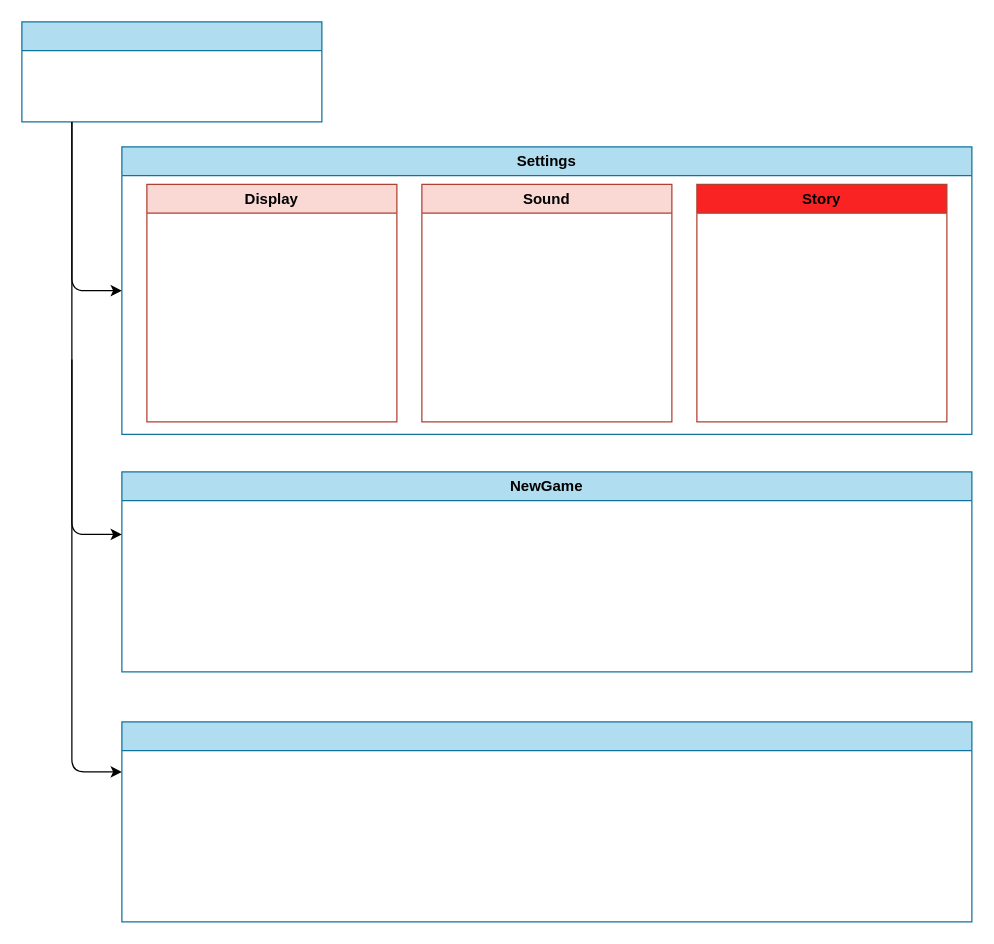
This 994x944 diagram has some shape labels left out. Here are the shapes that lost their labels. From the top down, the centre of each, then its label:
At [171,71]: "MainMenu".
At [546,821]: "Continue".
